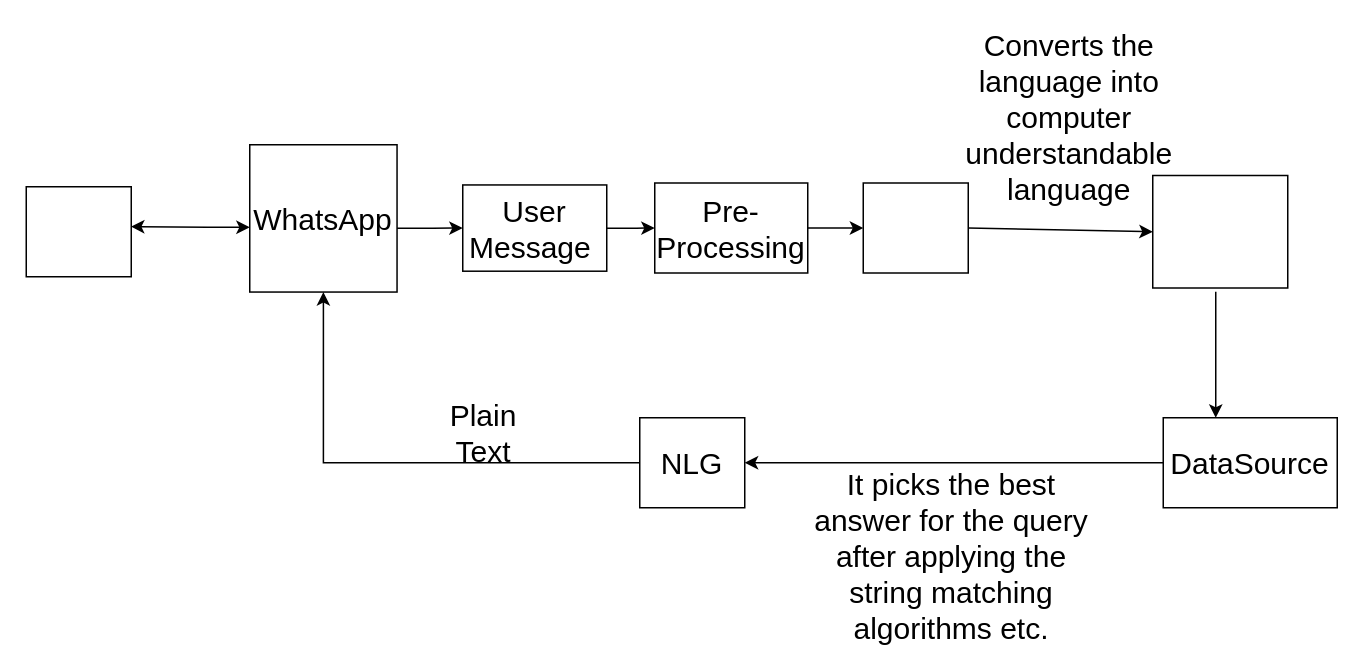
Some shapes in this 1364 by 671 pixel diagram are drawn without their labels. Each missing label, with the box of its shape:
Decission Engine: (1151, 174, 1288, 288)
NLP/ NLU: (862, 182, 968, 273)
User: (25, 185, 131, 277)
